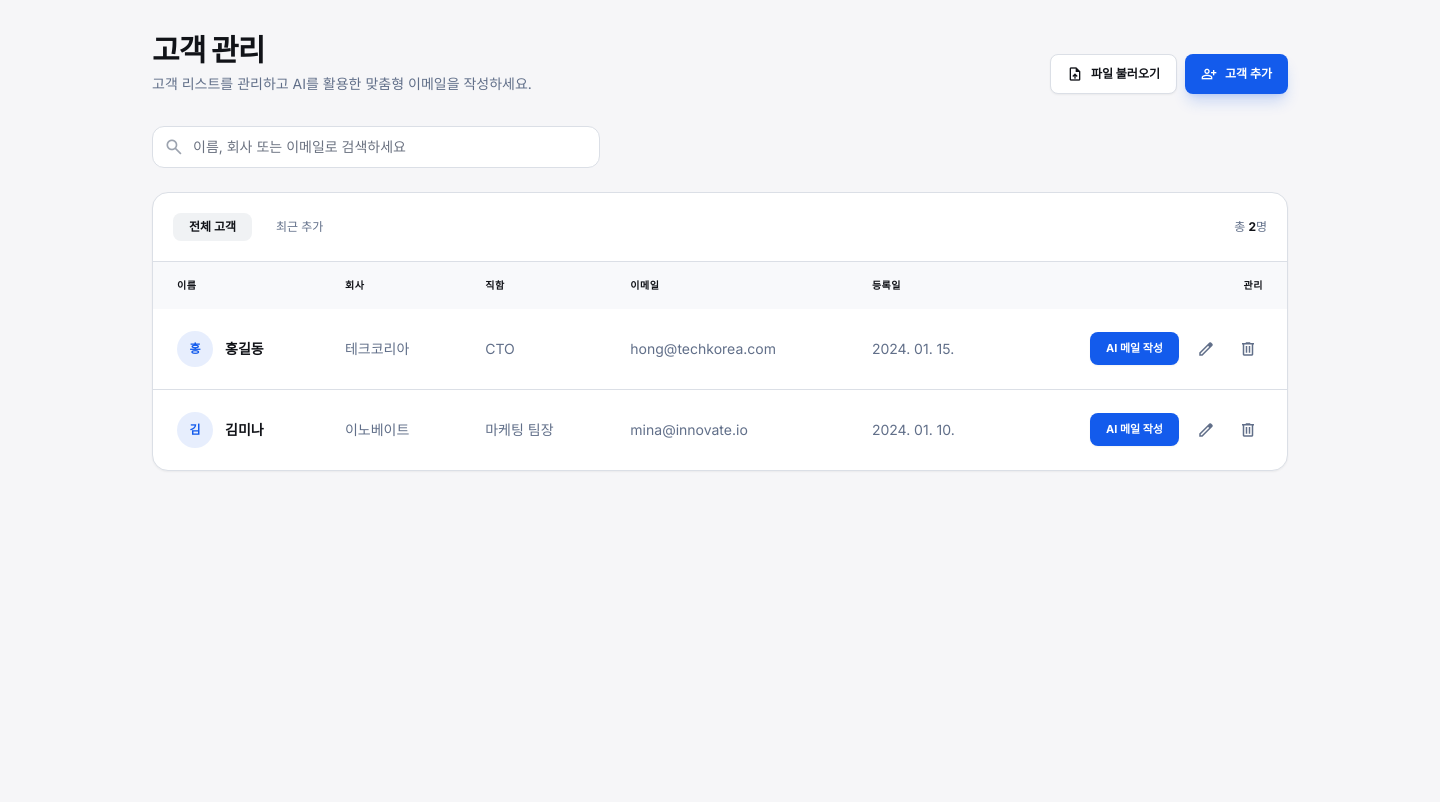
Test: CustomerManagement › 고객 추가 모달 › 취소 버튼 클릭 시 모달이 닫힌다
Check: the text "홍길동" is shown, box [225,338,264,358]
What coordinates should you click on to do the following:
click the button "고객 추가"
I would click on:
 (1236, 74)
Its box is [1185,54,1288,94].
(page scrolled)
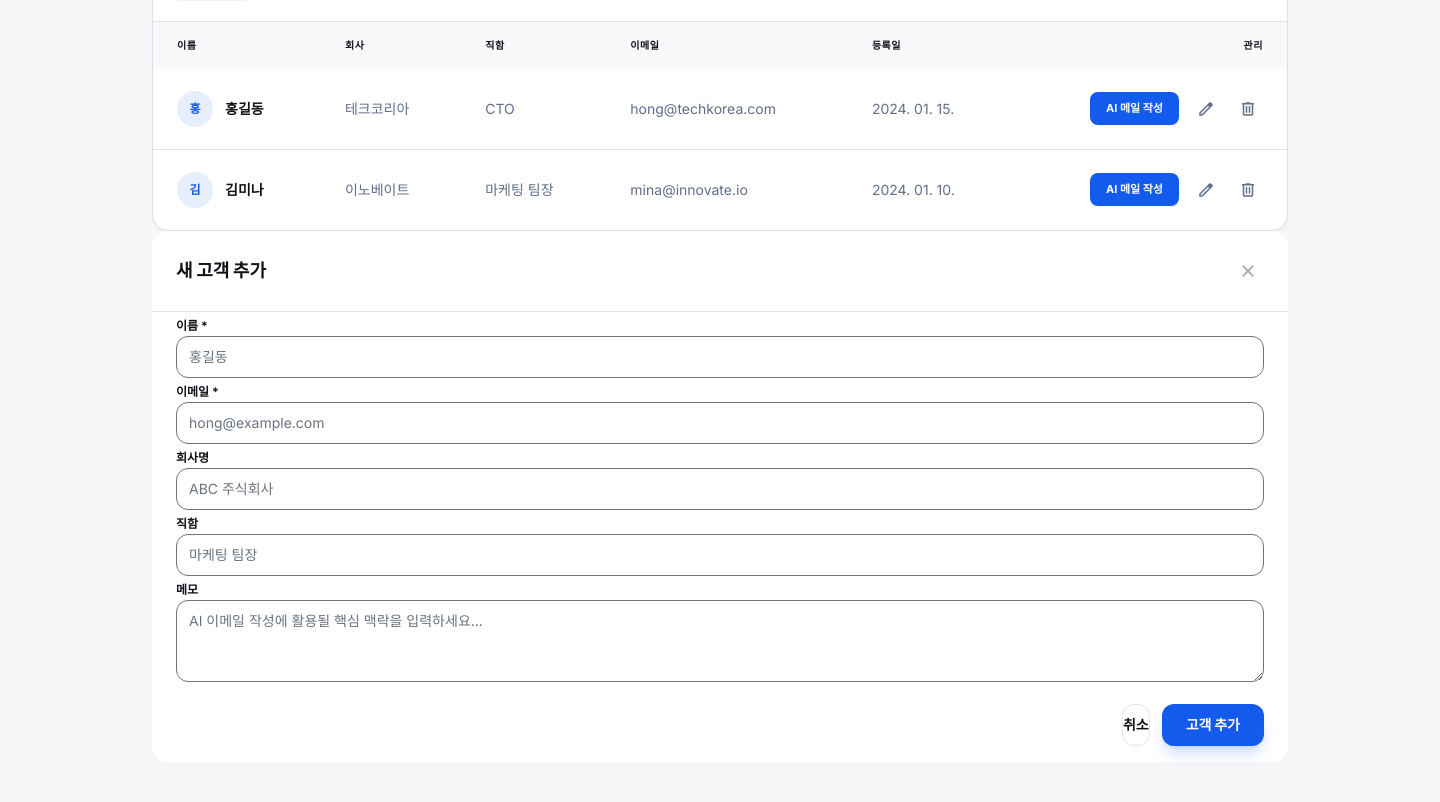
Check: the heading "새 고객 추가" is shown, box [176,256,266,284]
What coordinates should you click on to do the following:
click the button "취소"
I would click on:
 (1136, 724)
Its box is [1122,704,1150,746].
(page scrolled)
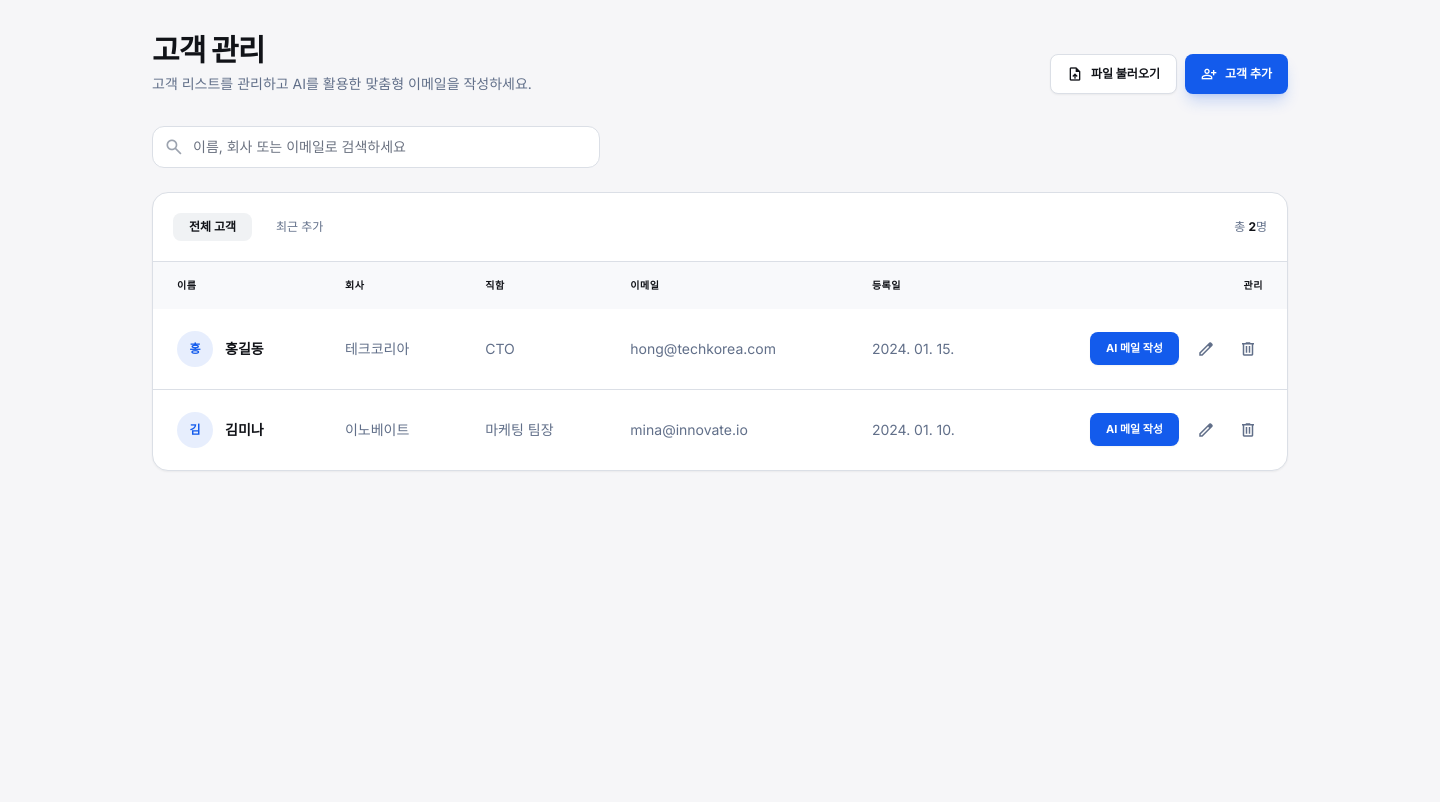
Check: the heading "새 고객 추가" is gone
